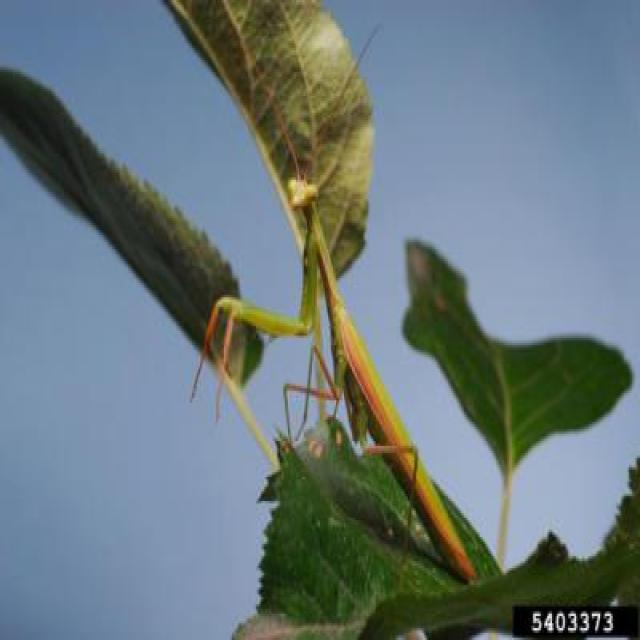antennae: (304, 26, 379, 184), (250, 63, 302, 183)
body: (291, 179, 390, 445)
insect: (188, 23, 470, 587)
legs: (190, 247, 313, 405), (215, 258, 319, 419), (348, 380, 426, 547), (274, 345, 348, 452), (297, 353, 338, 436)
mouthpart: (292, 193, 303, 216)
wings: (341, 312, 469, 578)
